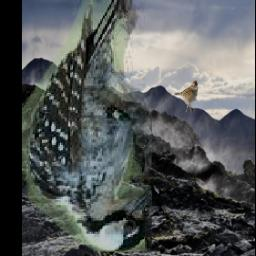Sparrow: (174, 80, 199, 113)
Woodpecker: (22, 0, 152, 252)
